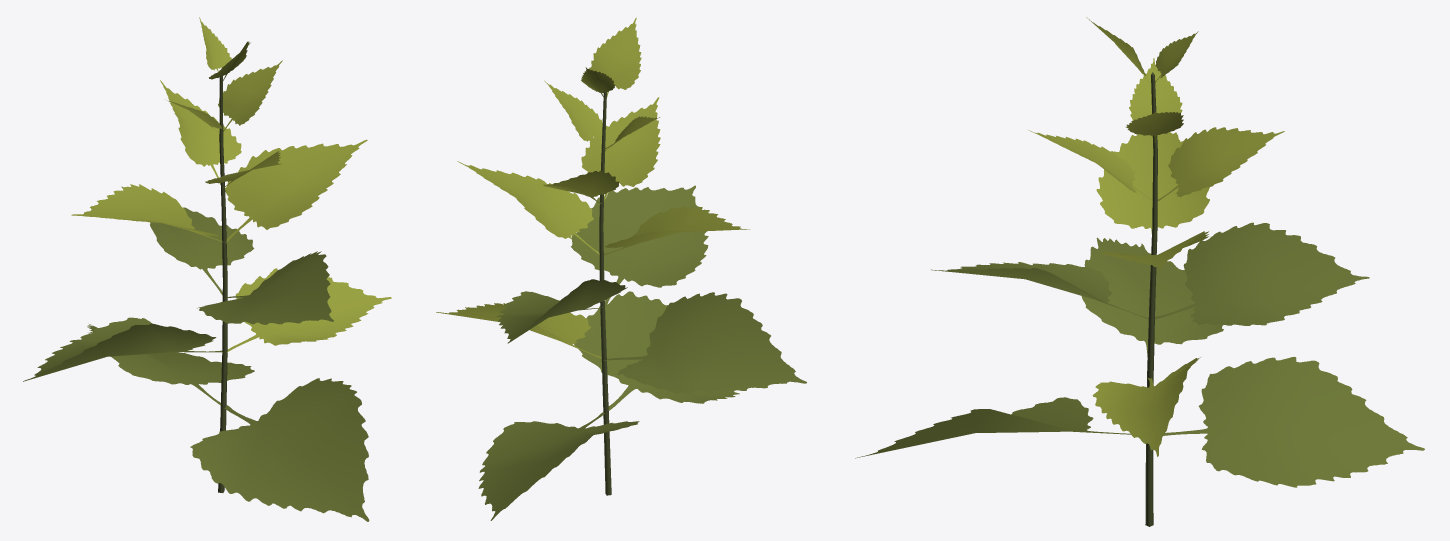
File: Stinging_Nettle_1.fbx
3 renders of one model, left to right at view 1: azimuth 30°, elevation 25°; view 2: azimuth 150°, elevation 25°; view 3: azimuth 270°, elevation 25°, orthographic. The views are drawn at different scales.
Visible parts, largest first — view 1: Stinging_Nettle_1; view 2: Stinging_Nettle_1; view 3: Stinging_Nettle_1.
Boxes of the visible parts, x1,y1,x2,y2 form: Stinging_Nettle_1: [23, 17, 391, 521]; Stinging_Nettle_1: [436, 17, 806, 520]; Stinging_Nettle_1: [855, 17, 1424, 526].
Bounding box in the file's own units: 73.9 × 85.21 × 89.41.
Materials: 1 (1 with a texture image).
